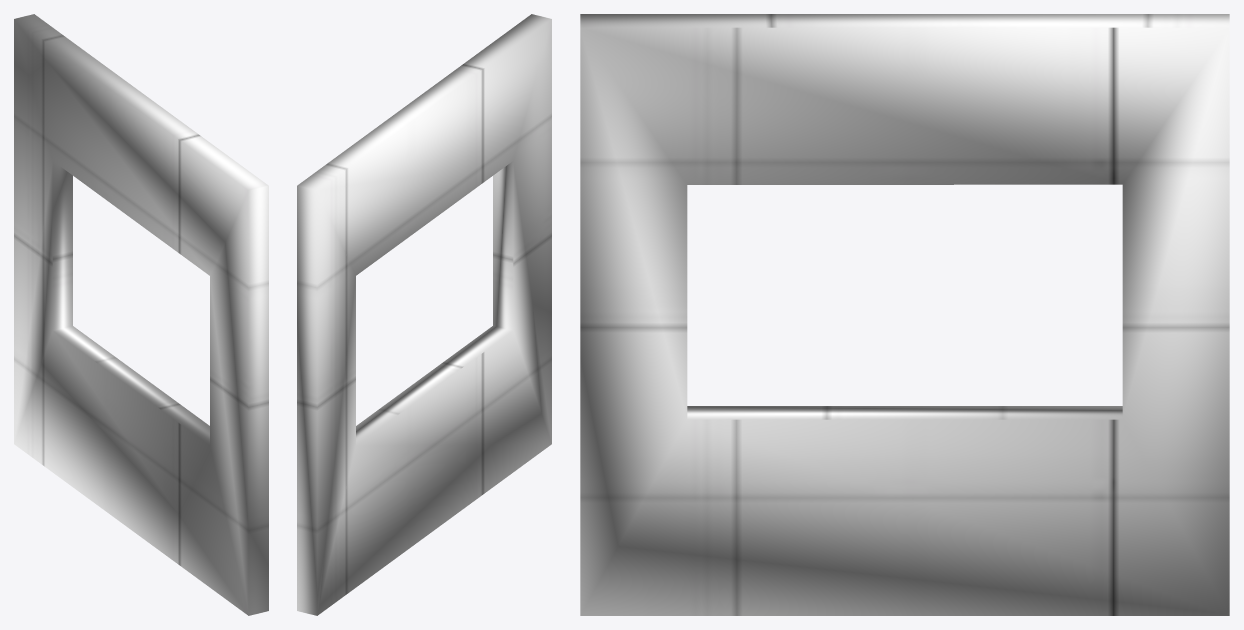
The model's file is wall.window.glb.
3 views of the same model, side by side, from view 1: azimuth 30°, elevation 25°; view 2: azimuth 150°, elevation 25°; view 3: azimuth 270°, elevation 25° (orthographic). The views are drawn at different scales.
Parts seen in each view (by area): view 1: wall.window; view 2: wall.window; view 3: wall.window.
Boxes of the visible parts, x1,y1,x2,y2 form: wall.window: (14,14,268,615); wall.window: (297,14,551,615); wall.window: (580,14,1229,615).
Bounding box in the file's own units: 0.1496 × 3 × 3.
Materials: 1 (1 with a texture image).
